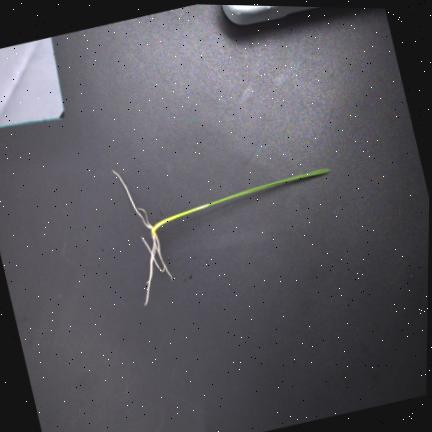leaf1: (208, 169, 329, 206)
root1: (153, 234, 171, 280)
root2: (140, 235, 164, 271)
root3: (145, 236, 155, 283)
root4: (142, 238, 153, 306)
root5: (111, 169, 150, 227)
root6: (136, 207, 152, 227)
stem: (149, 201, 206, 234)
